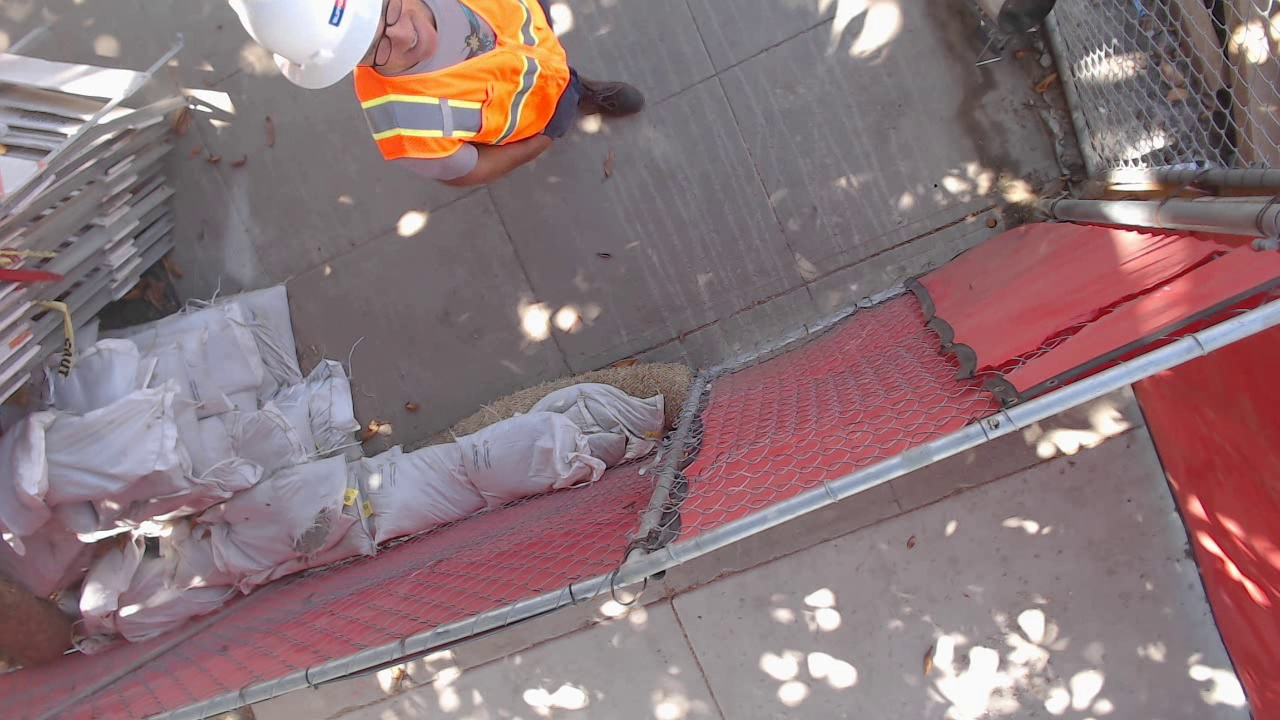person: (772, 527, 1020, 720)
safetyvest: (801, 624, 986, 718)
